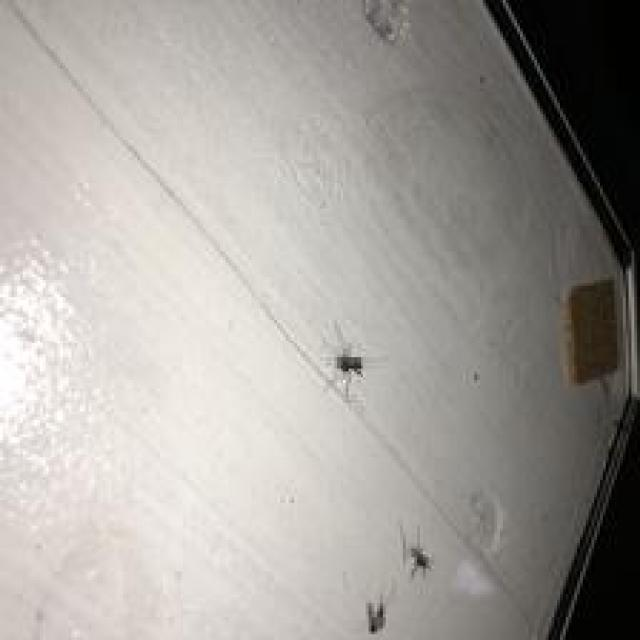Aedes albopictus: (324, 318, 367, 402)
